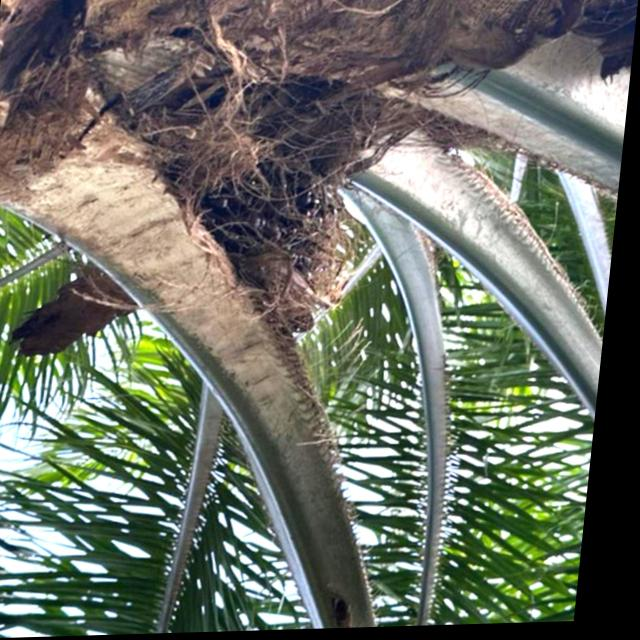unripe: (141, 106, 378, 345)
